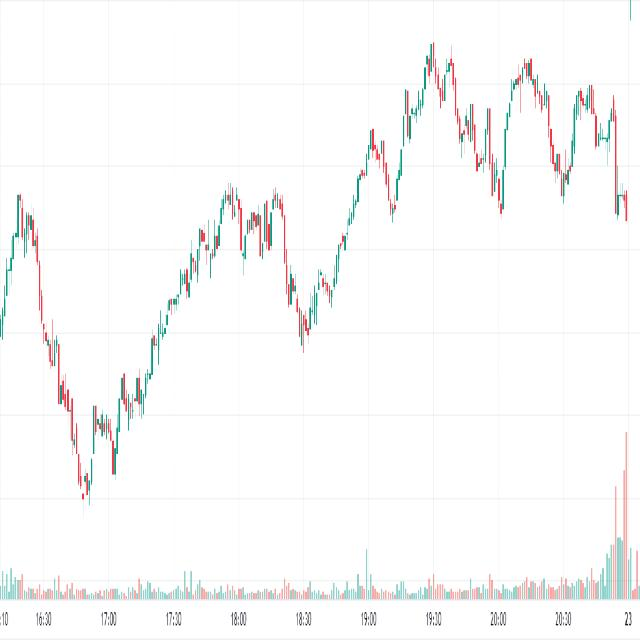rectangle: (204, 180, 296, 270)
